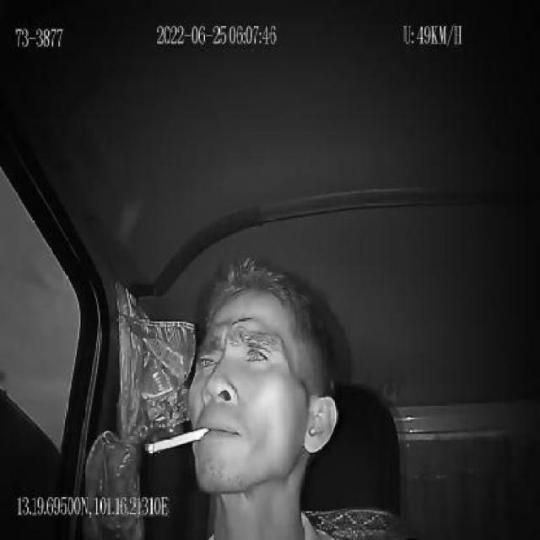smoking: (146, 424, 213, 456)
